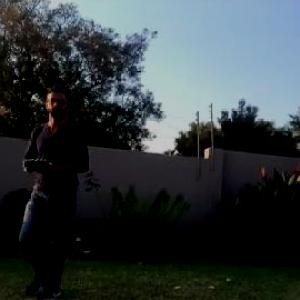follow: (9, 80, 93, 299)
